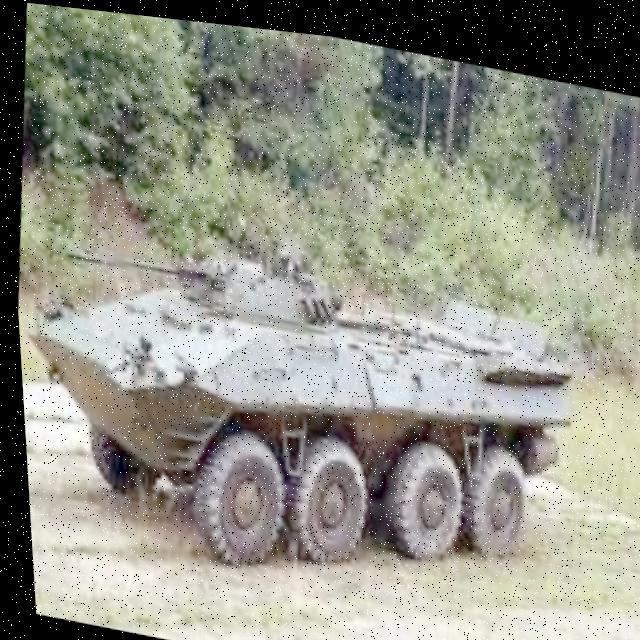MIL_APC: (8, 171, 590, 600)
